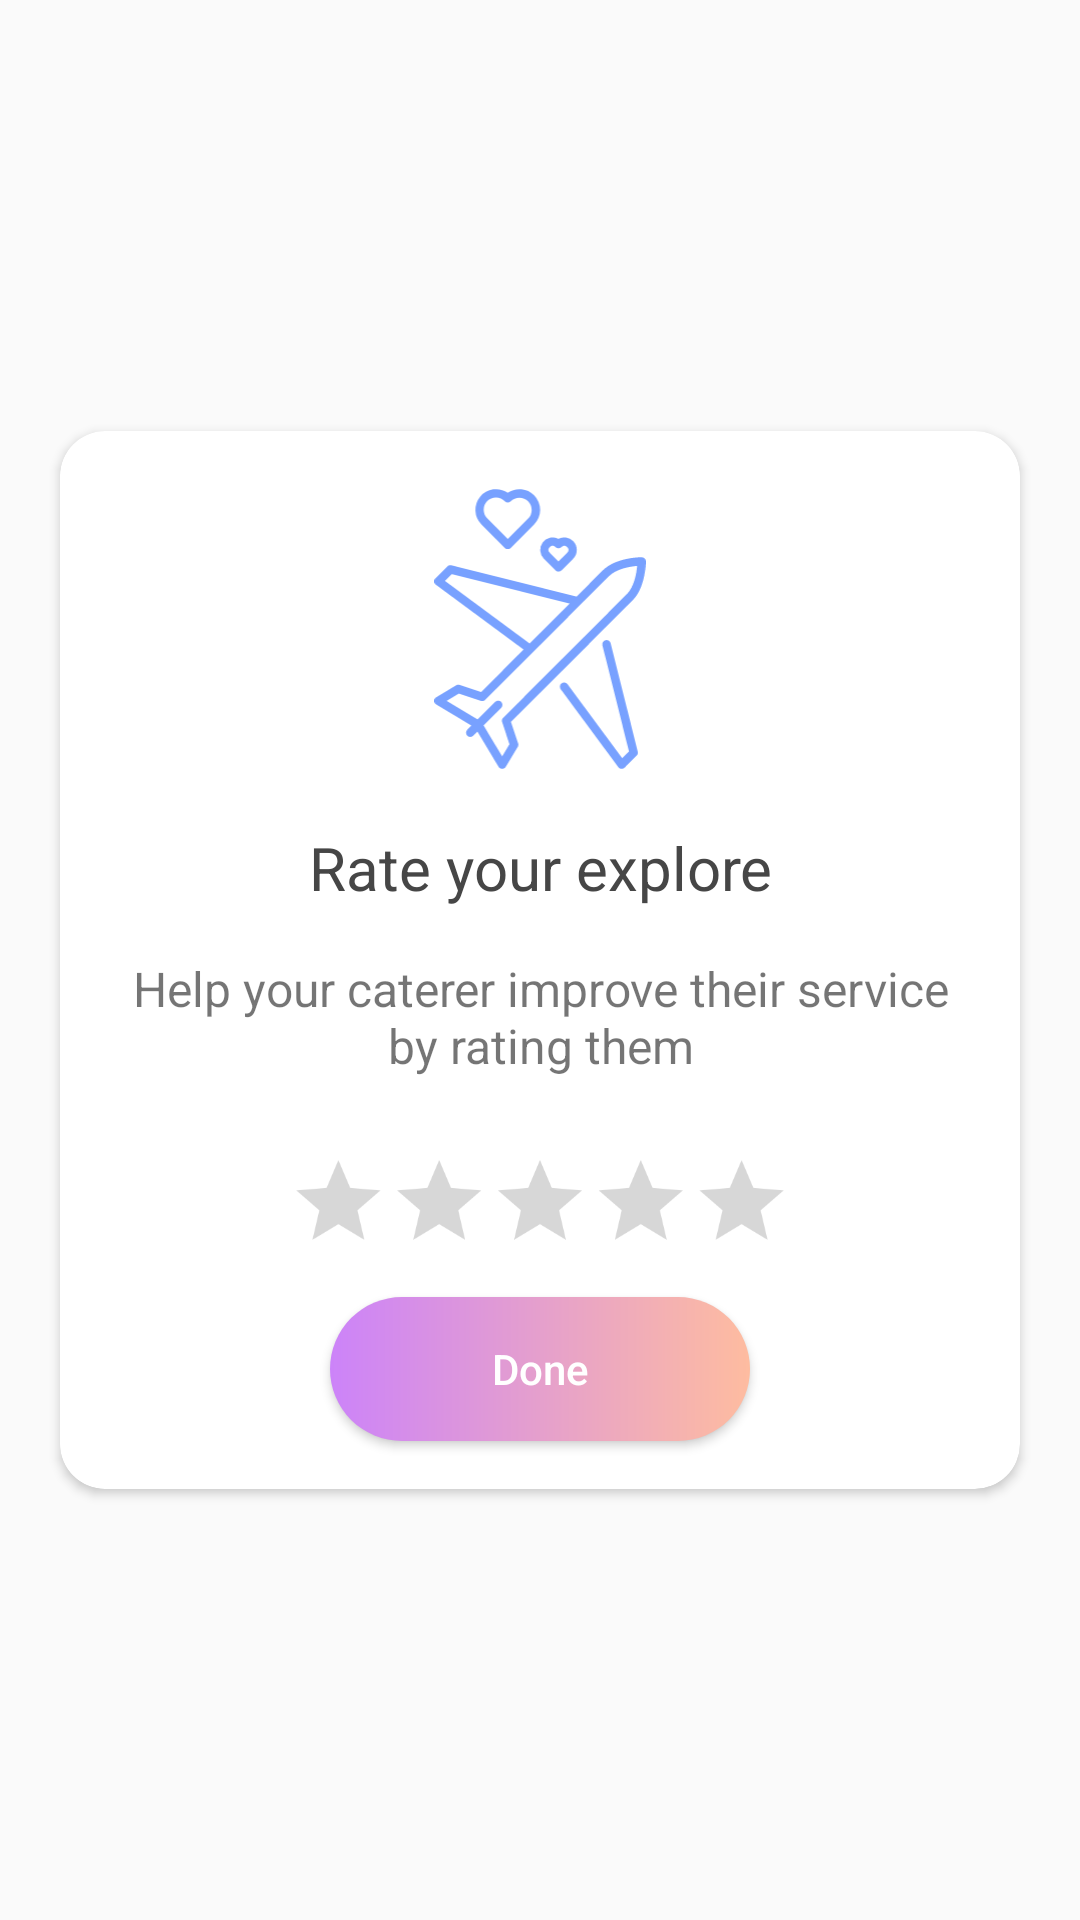

Icon bounding boxes for this 1080w x 1920h phone screenshot, format (x1=x1, y1=y1, x2=x2, y2=y2):
planes: (x1=434, y1=489, x2=646, y2=769)
